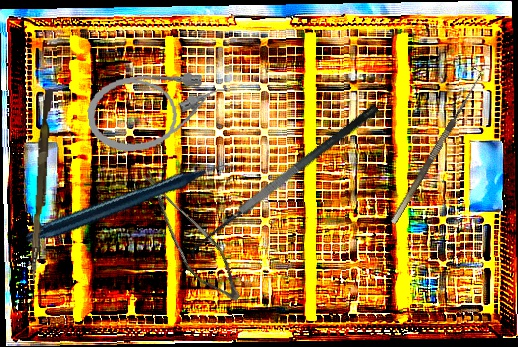Cannula: (83, 64, 232, 157)
Handpiece: (24, 114, 239, 294)
Hook Surgical: (382, 66, 486, 225)
Micro Scissor: (114, 167, 261, 309)
Pusher: (30, 89, 53, 282)
Spatula Surgical: (181, 101, 393, 268)
